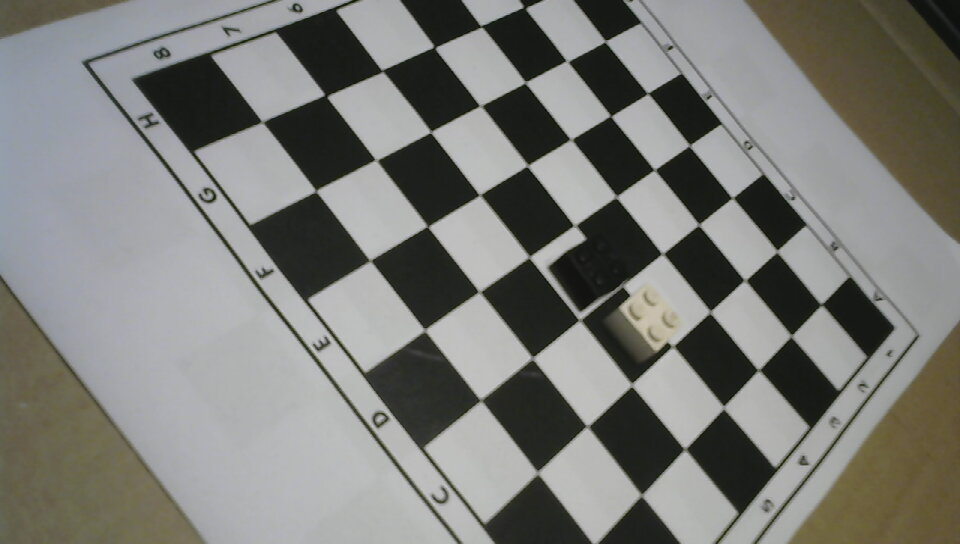bp: (546, 231, 615, 310)
